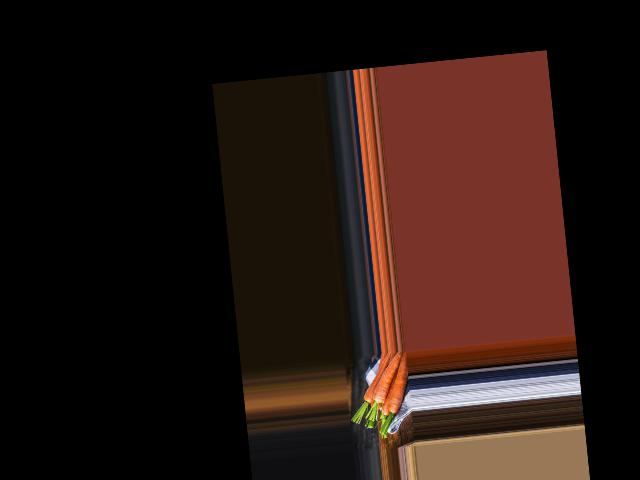carrot: (382, 351, 413, 421)
